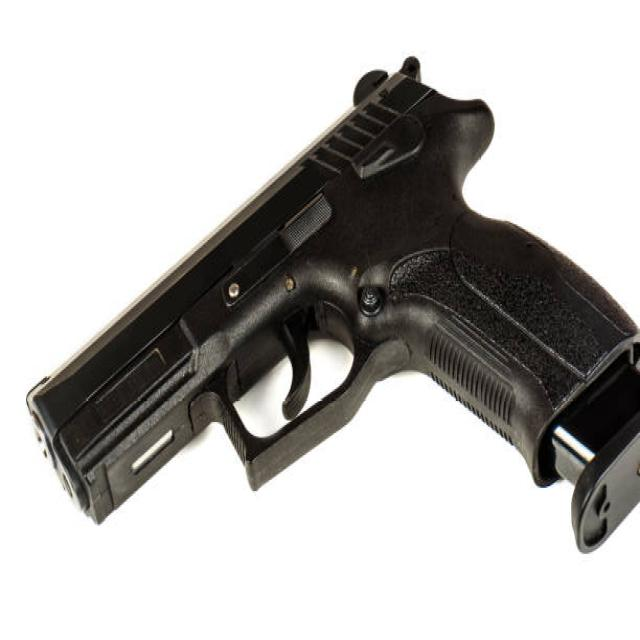pistol: (20, 53, 640, 563)
